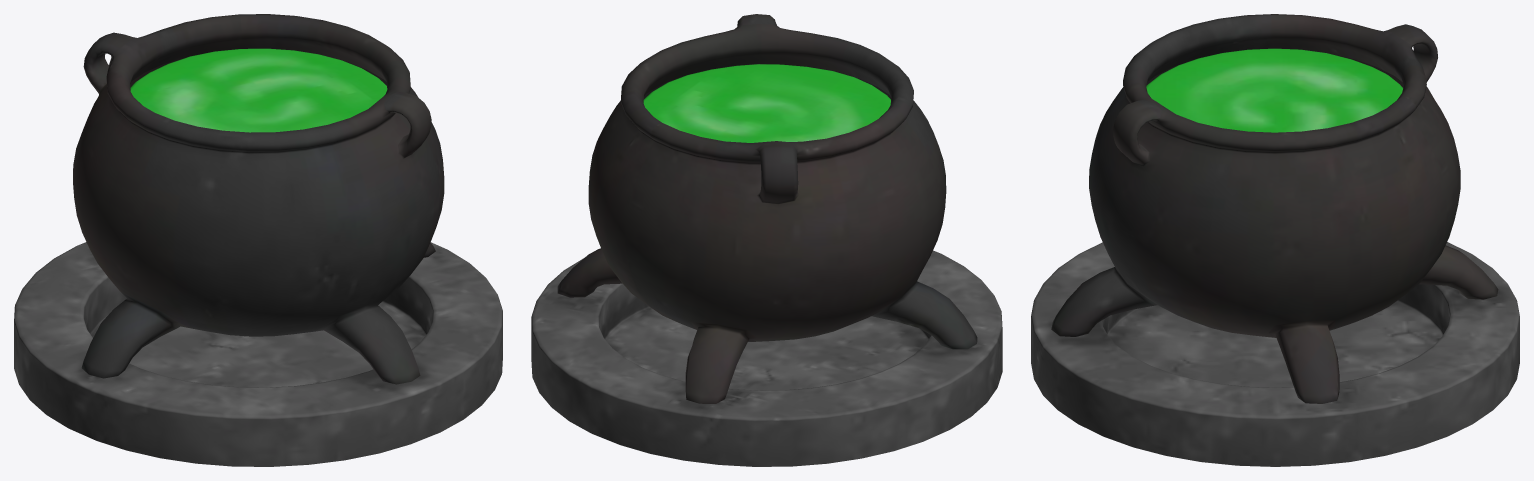
Rendered from cauldron.glb.
3 renders of one model, left to right at view 1: azimuth 30°, elevation 25°; view 2: azimuth 150°, elevation 25°; view 3: azimuth 270°, elevation 25°, orthographic. The views are drawn at different scales.
Parts seen in each view (by area): view 1: defaultMaterial (×3); view 2: defaultMaterial (×3); view 3: defaultMaterial (×3).
Part boxes in pixels (<box>): defaultMaterial (×3): <box>14,14,502,466</box>; defaultMaterial (×3): <box>531,14,1002,466</box>; defaultMaterial (×3): <box>1031,14,1519,466</box>.
Size of the model in its own units: 2 by 1.35 by 2.
3 materials, 3 textured.
